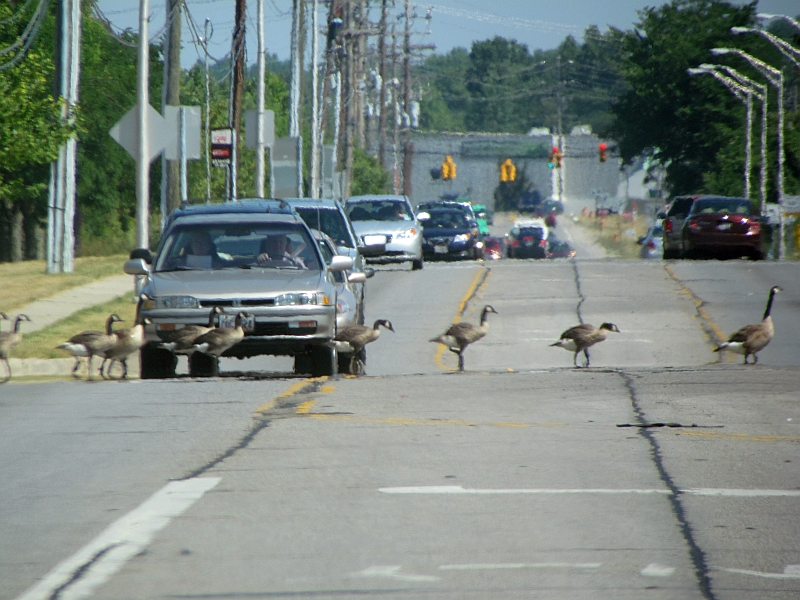goose: (711, 282, 790, 364), (147, 306, 227, 373), (82, 314, 159, 383), (427, 302, 503, 371), (181, 311, 254, 379), (317, 319, 396, 379), (56, 313, 124, 382), (549, 319, 626, 369), (1, 312, 36, 358)
